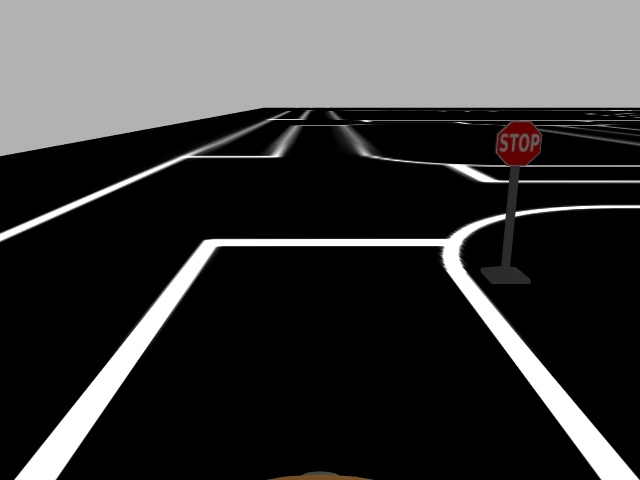stop: (492, 120, 544, 168)
